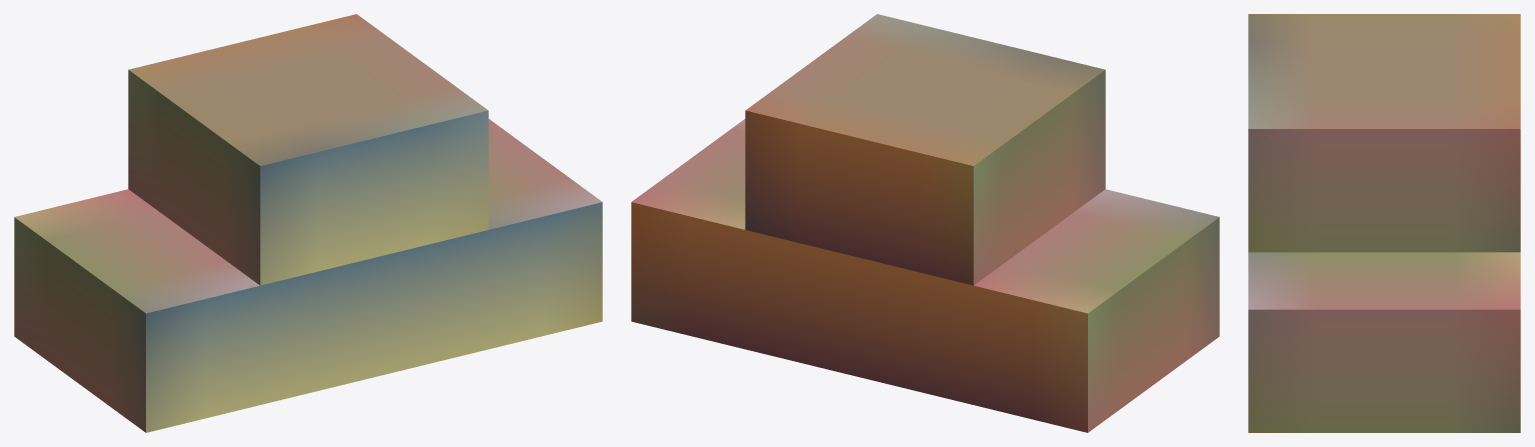
File: BrickToy_00.obj
3 views of the same model, side by side, from view 1: azimuth 30°, elevation 25°; view 2: azimuth 150°, elevation 25°; view 3: azimuth 270°, elevation 25° (orthographic). The views are drawn at different scales.
Parts seen in each view (by area): view 1: BrickToy_00; view 2: BrickToy_00; view 3: BrickToy_00.
Boxes of the visible parts, <box> form: BrickToy_00: <box>14,14,602,432</box>; BrickToy_00: <box>631,14,1219,432</box>; BrickToy_00: <box>1248,14,1520,432</box>.
Bounding box in the file's own units: 0.4 × 0.2 × 0.2.
